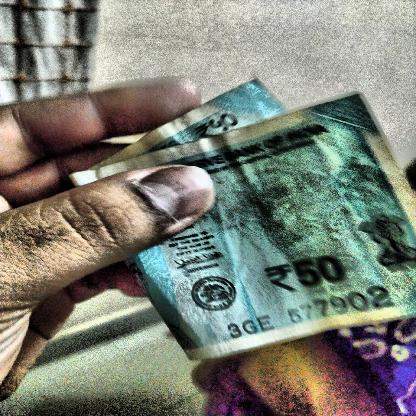Rs50: (253, 241, 372, 304)
